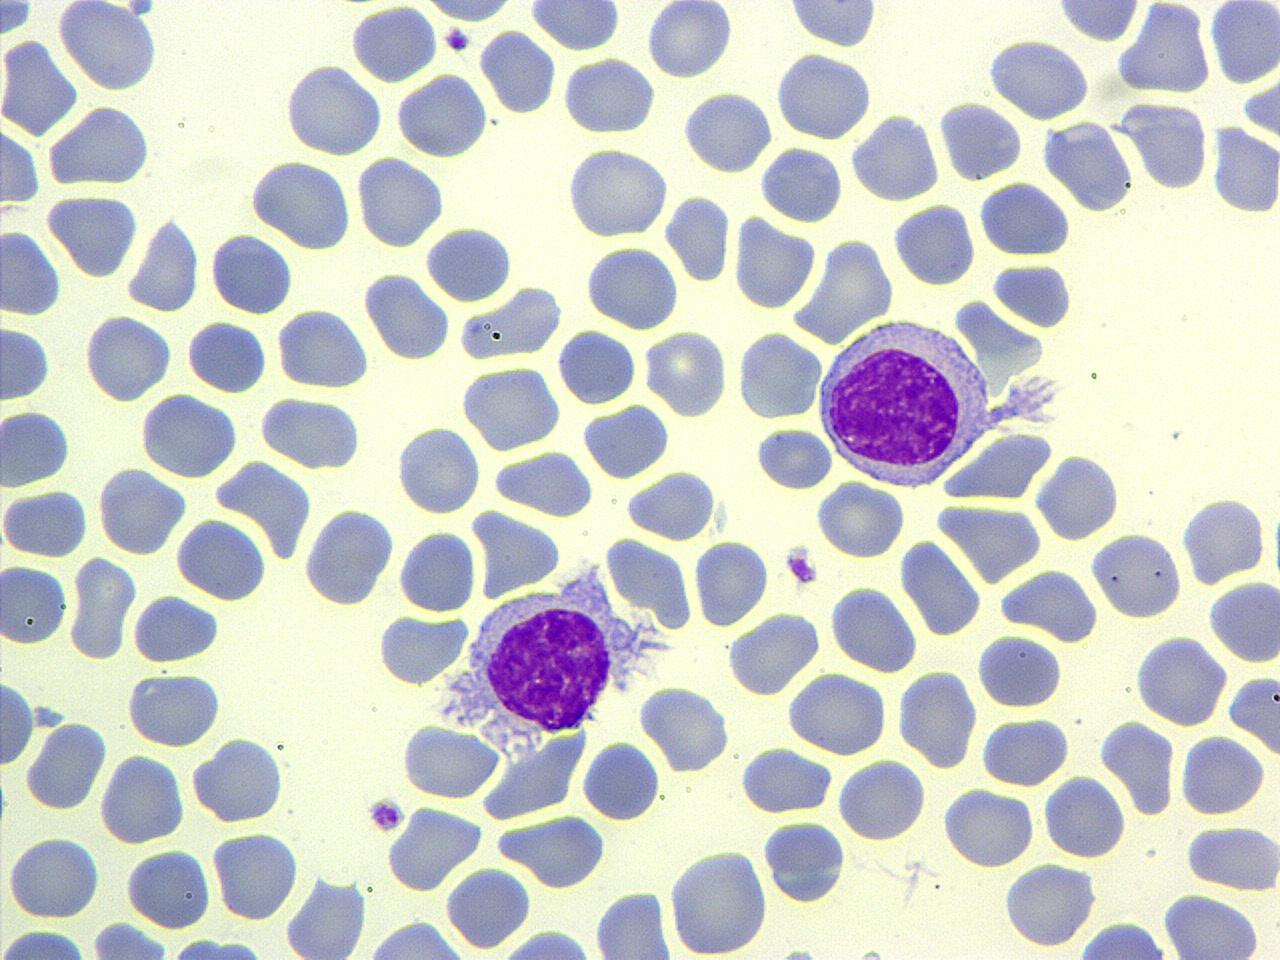Platelets: (366, 794, 407, 834), (784, 546, 819, 588), (30, 702, 66, 730), (776, 942, 824, 960), (442, 26, 470, 51), (128, 1, 156, 18)
RBC: (667, 842, 771, 958), (300, 502, 396, 610), (245, 156, 354, 251), (563, 145, 670, 241), (282, 60, 384, 160), (56, 0, 159, 95), (459, 360, 564, 452), (1133, 630, 1229, 729), (138, 389, 242, 480), (772, 50, 876, 141), (48, 104, 158, 188), (46, 187, 142, 283), (724, 608, 824, 699), (784, 670, 889, 756), (1000, 860, 1100, 950), (210, 826, 302, 923), (354, 154, 446, 250), (3, 832, 103, 920), (894, 667, 979, 770), (1179, 490, 1271, 585), (1114, 6, 1210, 97), (898, 536, 982, 640), (1088, 530, 1184, 621), (847, 110, 941, 202), (636, 682, 732, 772), (97, 750, 187, 846), (95, 464, 186, 558), (81, 311, 175, 402), (584, 243, 681, 331), (258, 393, 366, 472), (998, 563, 1104, 643), (828, 582, 920, 674), (730, 213, 816, 311), (362, 269, 452, 362), (735, 327, 824, 421), (679, 89, 775, 176), (394, 422, 482, 516), (24, 716, 110, 812), (124, 668, 224, 750), (276, 304, 372, 389), (399, 720, 498, 802), (503, 814, 609, 890), (834, 756, 927, 842), (1101, 714, 1177, 819), (125, 214, 204, 315), (942, 784, 1038, 867), (760, 816, 850, 904), (1032, 455, 1122, 543), (443, 864, 534, 951), (68, 552, 138, 664), (644, 327, 730, 418), (560, 55, 659, 134), (0, 36, 78, 136), (125, 842, 213, 930), (1177, 732, 1269, 816), (892, 198, 978, 287), (1041, 773, 1127, 860), (936, 97, 1024, 182), (758, 142, 848, 225), (488, 448, 597, 516), (477, 26, 559, 116), (816, 478, 906, 560), (1207, 115, 1279, 217), (284, 874, 371, 958), (208, 231, 295, 315), (374, 612, 470, 688), (978, 712, 1074, 788), (423, 225, 514, 305), (643, 1, 734, 81), (975, 628, 1063, 710), (690, 538, 770, 628), (1160, 891, 1264, 959), (736, 744, 834, 816), (579, 737, 661, 822), (398, 527, 477, 614), (0, 486, 90, 560), (130, 592, 222, 664), (185, 317, 270, 394), (664, 190, 732, 286), (1207, 574, 1279, 664), (1181, 824, 1279, 890), (556, 326, 638, 404), (0, 406, 76, 489), (0, 559, 71, 647), (1207, 0, 1279, 86), (0, 222, 64, 317), (592, 888, 676, 958), (990, 260, 1076, 328), (753, 424, 833, 491), (526, 0, 624, 52), (357, 917, 476, 958), (1, 320, 54, 404), (1051, 0, 1143, 42), (0, 676, 36, 770), (0, 925, 95, 960)
WBC: (816, 0, 1280, 314), (814, 314, 990, 490), (459, 565, 628, 747), (667, 843, 770, 958), (302, 501, 399, 610), (245, 156, 355, 251), (281, 59, 385, 157), (984, 35, 1096, 124), (55, 0, 160, 94), (138, 389, 242, 482), (1137, 629, 1233, 729), (774, 49, 876, 143), (460, 360, 564, 452), (387, 800, 487, 894), (897, 533, 983, 642), (393, 69, 492, 163), (786, 670, 891, 758), (849, 107, 944, 204), (1041, 116, 1135, 214), (1000, 859, 1100, 951), (496, 810, 610, 890), (211, 826, 304, 924), (51, 102, 158, 187), (727, 604, 828, 694), (355, 154, 448, 250), (173, 514, 271, 605), (190, 734, 288, 825), (640, 677, 734, 771), (827, 580, 919, 676), (393, 420, 483, 518), (4, 831, 102, 920), (1032, 449, 1122, 544), (998, 562, 1102, 644), (363, 266, 450, 364), (1089, 532, 1185, 620), (399, 722, 501, 804), (1179, 492, 1267, 586), (680, 89, 774, 177), (0, 35, 81, 137), (126, 669, 226, 751), (123, 842, 212, 932), (125, 213, 202, 317), (976, 178, 1074, 259), (444, 862, 534, 950), (892, 198, 978, 290), (762, 815, 847, 907), (347, 3, 442, 85), (102, 466, 190, 554), (560, 55, 656, 134), (937, 94, 1025, 180), (478, 24, 558, 118), (284, 871, 368, 960), (759, 142, 847, 226), (736, 742, 834, 817), (580, 401, 670, 482), (1208, 116, 1280, 217), (495, 448, 598, 518), (623, 468, 719, 543), (375, 614, 474, 686), (426, 224, 514, 305), (580, 736, 661, 824), (129, 590, 221, 666), (976, 631, 1063, 709), (1207, 574, 1279, 667), (187, 315, 269, 396), (2, 486, 91, 560), (664, 191, 732, 286), (0, 406, 75, 490), (0, 223, 63, 319), (990, 262, 1076, 330), (592, 888, 674, 959), (780, 1, 883, 51), (524, 0, 621, 53), (360, 918, 475, 959), (1067, 919, 1179, 959), (481, 926, 606, 959), (1051, 0, 1145, 42), (0, 925, 101, 958)
